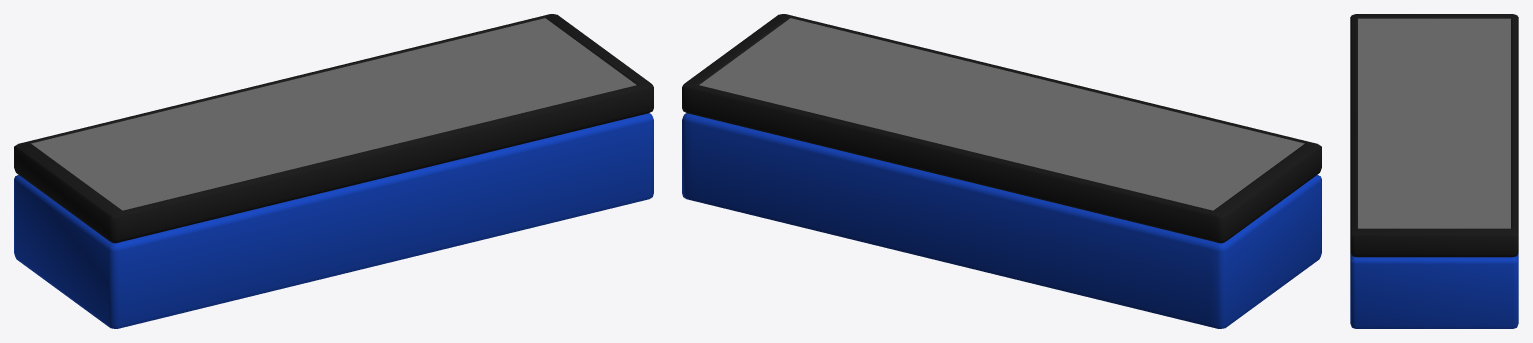
File: MiddlePart.fbx
The picture shows the model from 3 angles, left to right: view 1: azimuth 30°, elevation 25°; view 2: azimuth 150°, elevation 25°; view 3: azimuth 270°, elevation 25°; orthographic projection. The views are drawn at different scales.
Parts seen in each view (by area): view 1: MiddlePart; view 2: MiddlePart; view 3: MiddlePart.
Boxes of the visible parts, x1=… form: MiddlePart: x1=14, y1=14, x2=653, y2=328; MiddlePart: x1=682, y1=14, x2=1321, y2=328; MiddlePart: x1=1350, y1=14, x2=1518, y2=328.
Size of the model in its own units: 316 by 64.47 by 102.
